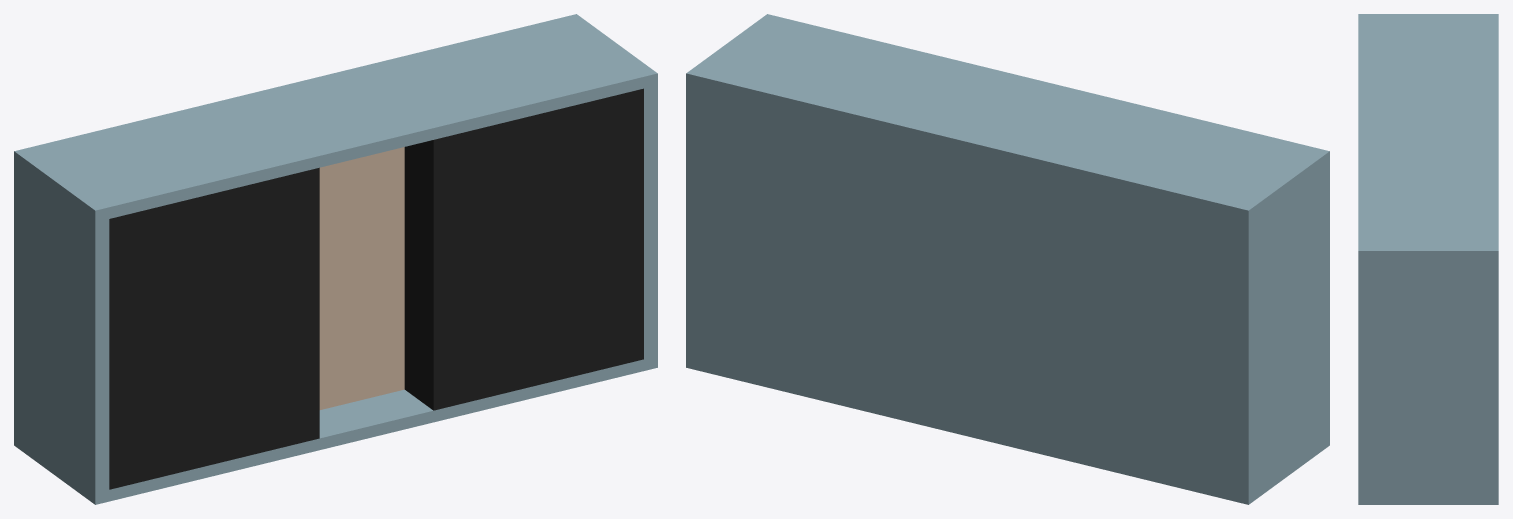
File: Block2A.fbx
The picture shows the model from 3 angles, left to right: view 1: azimuth 30°, elevation 25°; view 2: azimuth 150°, elevation 25°; view 3: azimuth 270°, elevation 25°; orthographic projection. The views are drawn at different scales.
Visible parts, largest first — view 1: Block2; view 2: Block2; view 3: Block2.
Part boxes in pixels (x1,y1,x2,y2): Block2: (14,14,657,504); Block2: (686,14,1329,504); Block2: (1358,14,1498,504).
Size of the model in its own units: 2 by 1 by 0.5.
